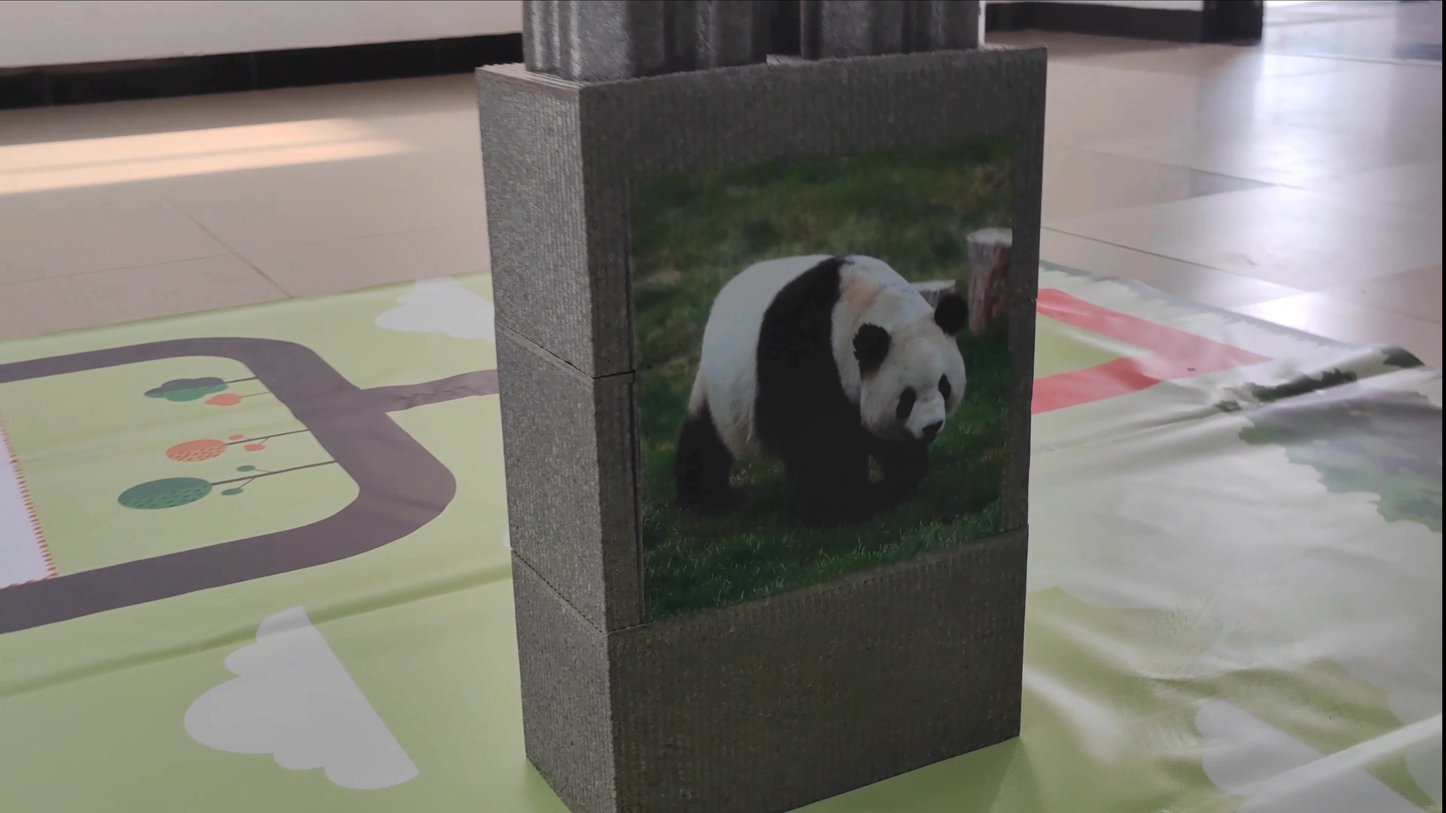panda: (665, 216, 993, 503)
